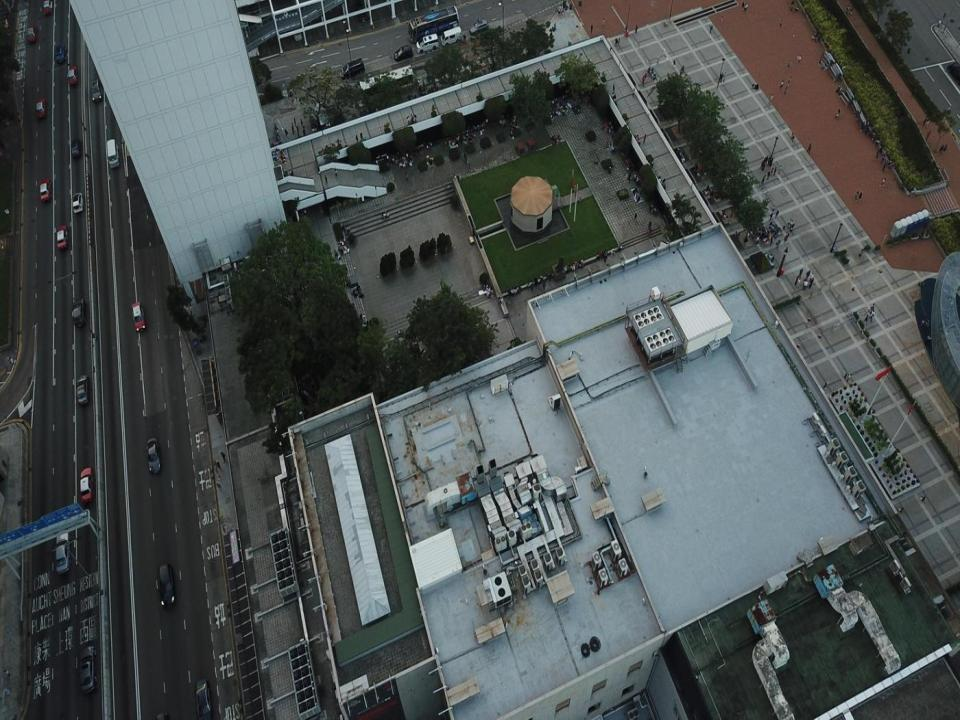bus: (359, 65, 414, 104), (408, 4, 461, 44)
car: (158, 563, 176, 609), (54, 526, 71, 574), (81, 646, 97, 694), (195, 679, 212, 719), (79, 467, 94, 504), (148, 438, 161, 474), (73, 299, 87, 326), (132, 300, 144, 330), (76, 374, 88, 404), (469, 19, 489, 36), (393, 46, 414, 61), (56, 225, 68, 249), (91, 78, 102, 102), (40, 179, 51, 202), (72, 193, 84, 213), (55, 43, 66, 63), (67, 66, 78, 85), (36, 98, 46, 118), (356, 4, 367, 22), (71, 139, 81, 158), (27, 25, 37, 42), (293, 24, 302, 42), (43, 0, 53, 14)
van: (340, 57, 364, 78), (415, 33, 439, 54), (440, 26, 464, 46), (106, 139, 120, 167)
